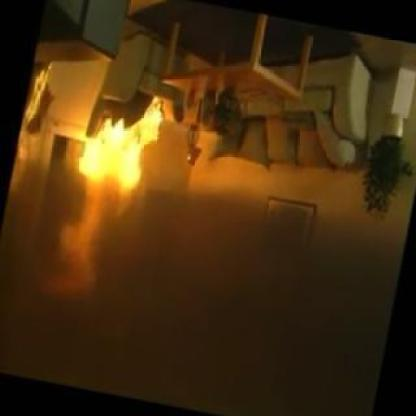Fire: (60, 81, 166, 230)
Smoke: (0, 239, 385, 414)
